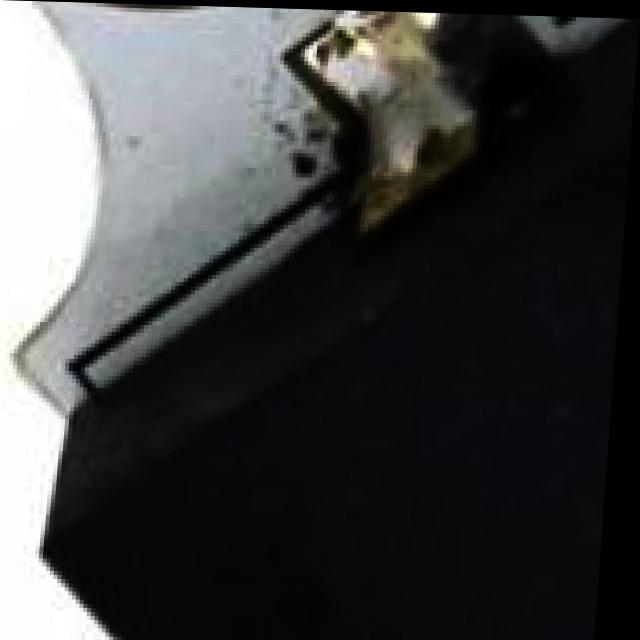buzzer: (0, 41, 638, 640)
